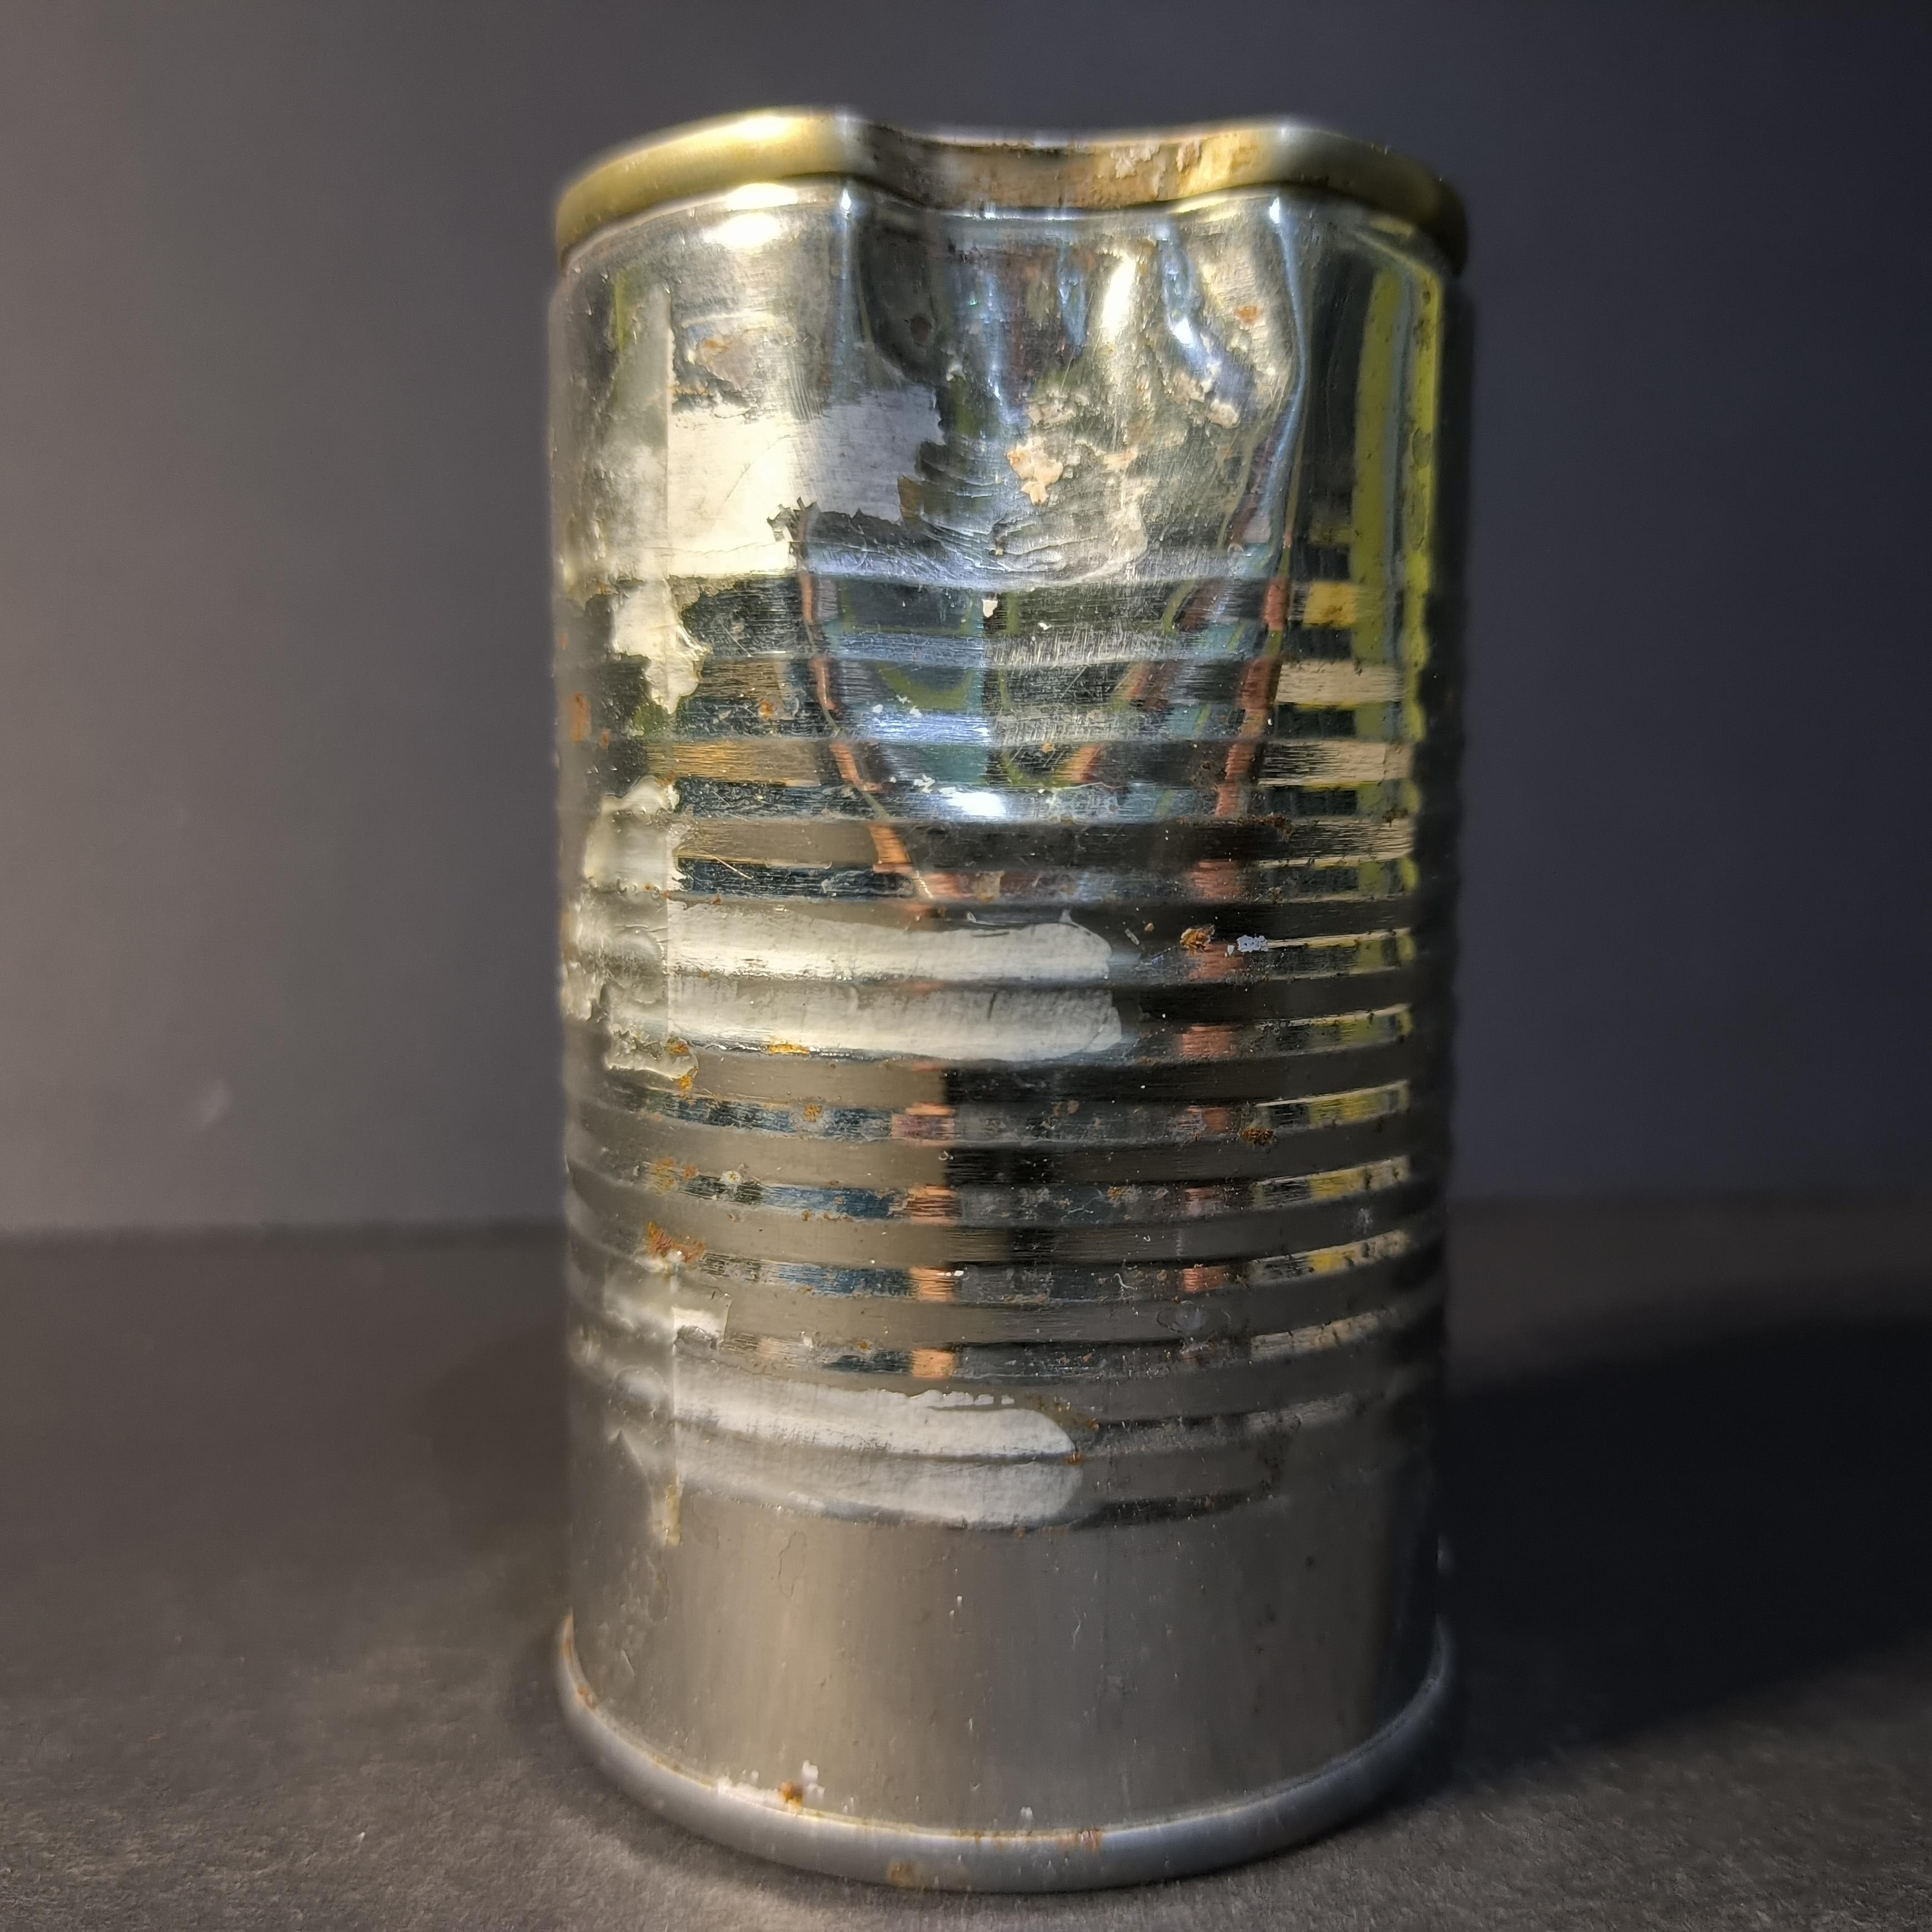Dented: (529, 64, 1508, 1931)
